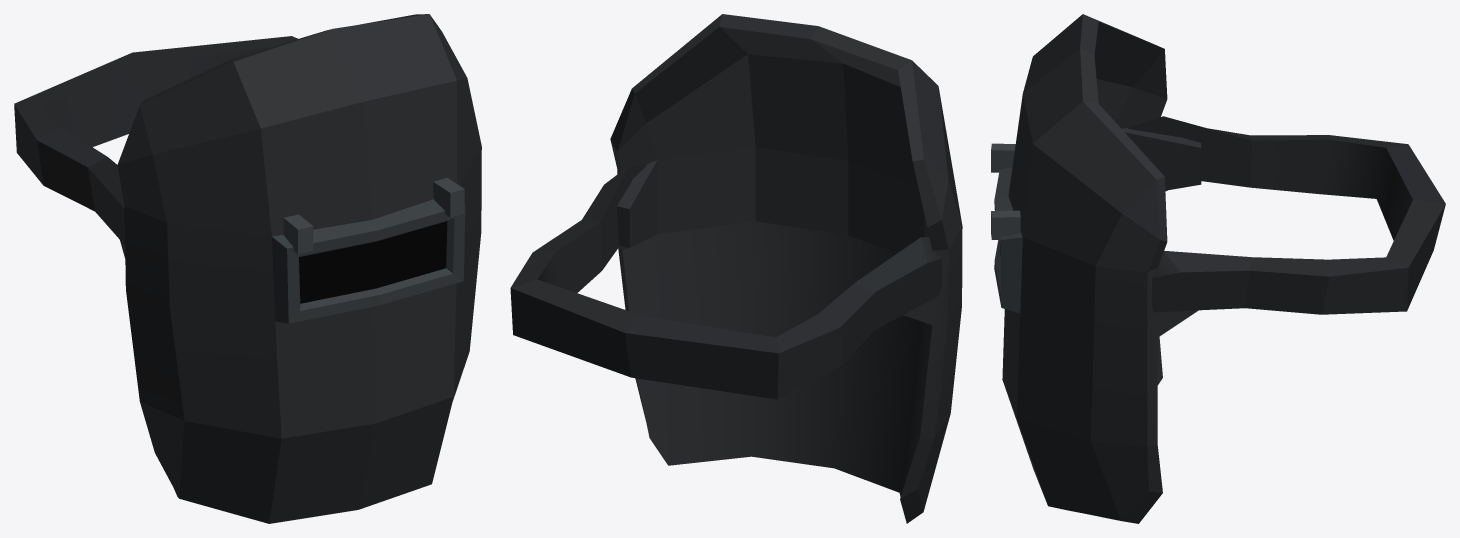
File: SM_Chr_Attach_WelderMask_01.fbx
3 renders of one model, left to right at view 1: azimuth 30°, elevation 25°; view 2: azimuth 150°, elevation 25°; view 3: azimuth 270°, elevation 25°, orthographic. The views are drawn at different scales.
Visible parts, largest first — view 1: SM_Chr_Attach_WelderMask_Shield_01, SM_Chr_Attach_WelderMask_01; view 2: SM_Chr_Attach_WelderMask_Shield_01, SM_Chr_Attach_WelderMask_01; view 3: SM_Chr_Attach_WelderMask_Shield_01, SM_Chr_Attach_WelderMask_01.
Boxes of the visible parts, <box> form: SM_Chr_Attach_WelderMask_Shield_01: <box>117,14,481,523</box>; SM_Chr_Attach_WelderMask_01: <box>14,36,297,245</box>; SM_Chr_Attach_WelderMask_Shield_01: <box>610,14,962,523</box>; SM_Chr_Attach_WelderMask_01: <box>510,165,941,399</box>; SM_Chr_Attach_WelderMask_Shield_01: <box>991,14,1201,523</box>; SM_Chr_Attach_WelderMask_01: <box>1128,116,1445,314</box>.
Bounding box in the file's own units: 29.15 × 38.1 × 36.71.
